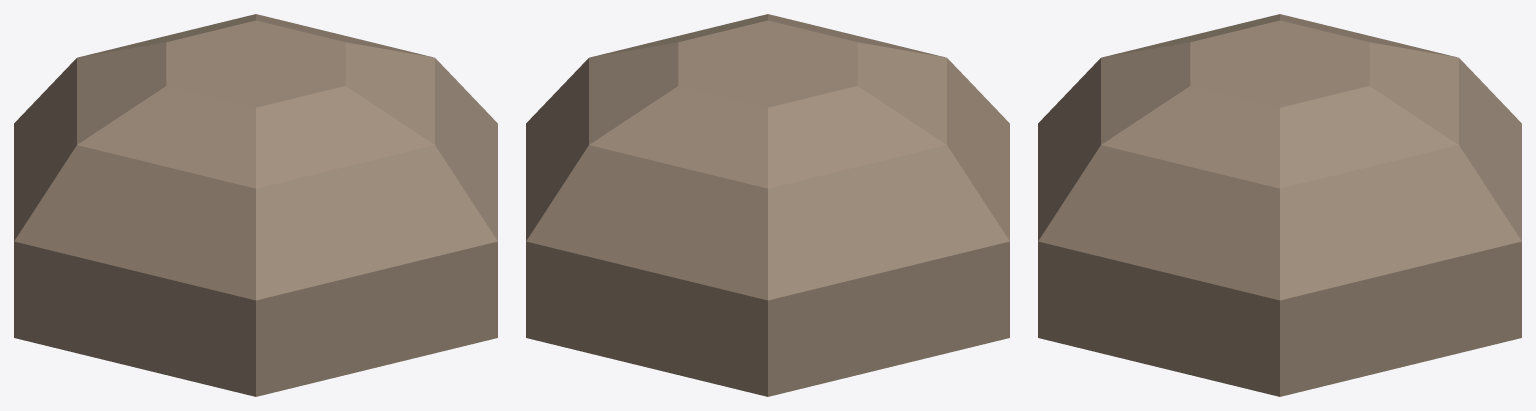
The model's file is asteroid_c.glb.
3 renders of one model, left to right at view 1: azimuth 30°, elevation 25°; view 2: azimuth 150°, elevation 25°; view 3: azimuth 270°, elevation 25°, orthographic.
Visible parts, largest first — view 1: asteroid_c; view 2: asteroid_c; view 3: asteroid_c.
Part boxes in pixels (box(x1,y1,x2,y2)): asteroid_c: box(14, 14, 497, 396); asteroid_c: box(526, 14, 1009, 396); asteroid_c: box(1038, 14, 1521, 396).
Size of the model in its own units: 2 by 0.8487 by 1.73.
